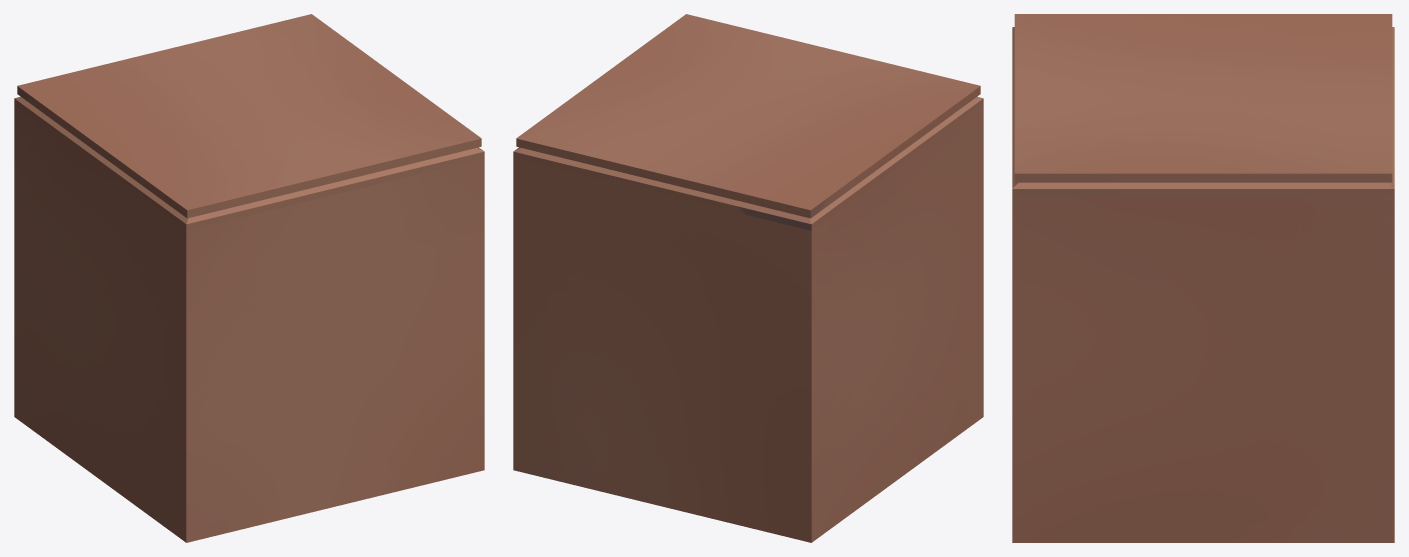
File: counter 1 shump asset 1.fbx
3 views of the same model, side by side, from view 1: azimuth 30°, elevation 25°; view 2: azimuth 150°, elevation 25°; view 3: azimuth 270°, elevation 25° (orthographic). The views are drawn at different scales.
Visible parts, largest first — view 1: counter 1; view 2: counter 1; view 3: counter 1.
Boxes of the visible parts, x1,y1,x2,y2 form: counter 1: (14,14,484,542); counter 1: (513,14,983,542); counter 1: (1012,14,1394,542).
Size of the model in its own units: 293 by 311 by 293.
